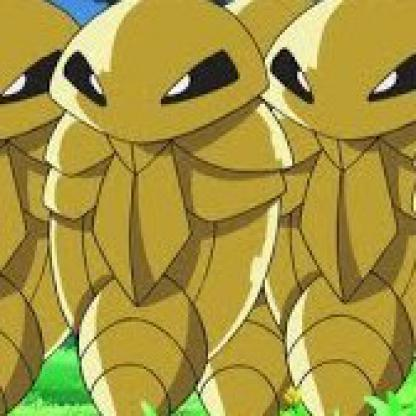Kakuna: (55, 1, 271, 415), (261, 1, 415, 415), (1, 1, 110, 415)
